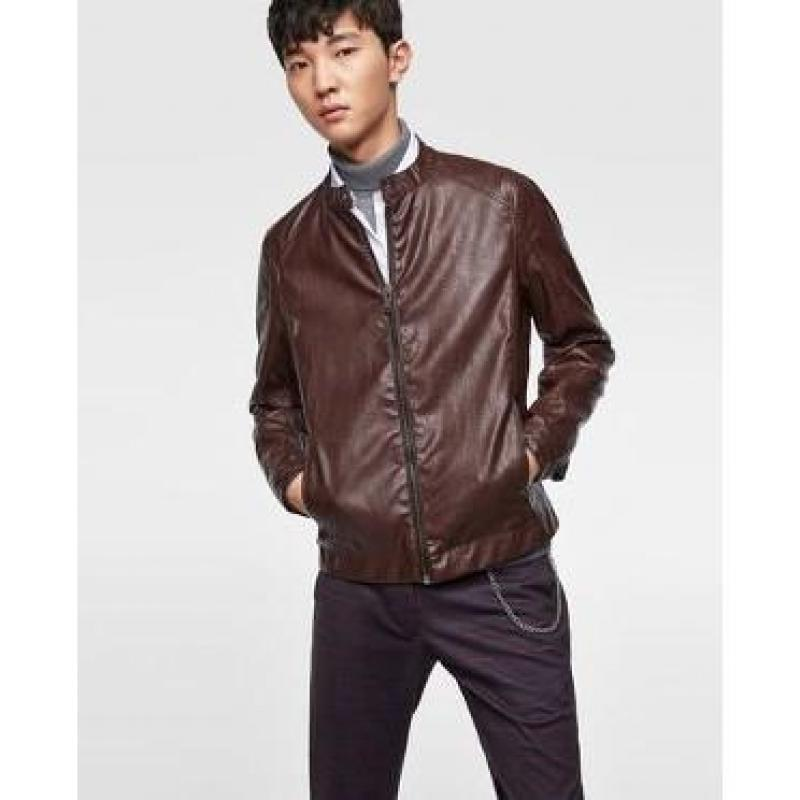jacket: (247, 127, 619, 590)
trousers: (304, 539, 587, 800)
